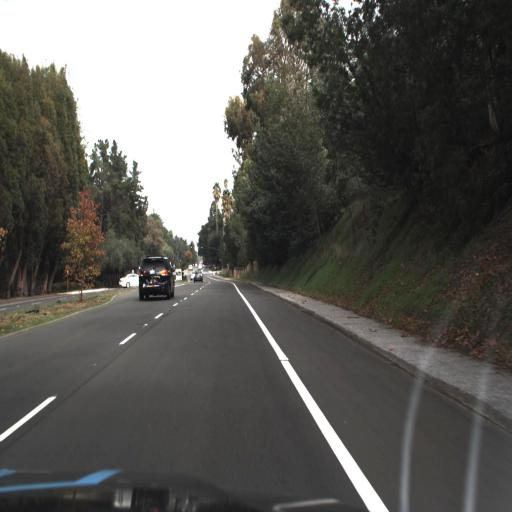car: (138, 257, 173, 302), (118, 273, 143, 291), (191, 266, 205, 288)
